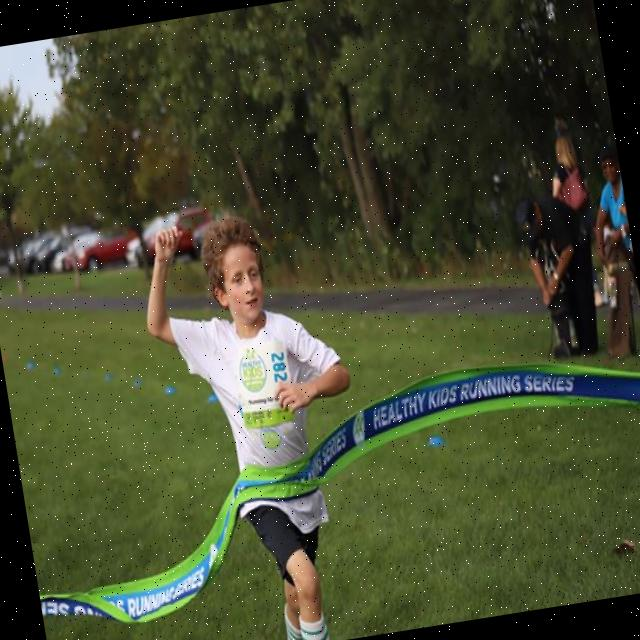Person: (133, 198, 391, 640), (513, 188, 607, 362), (583, 148, 640, 358)
